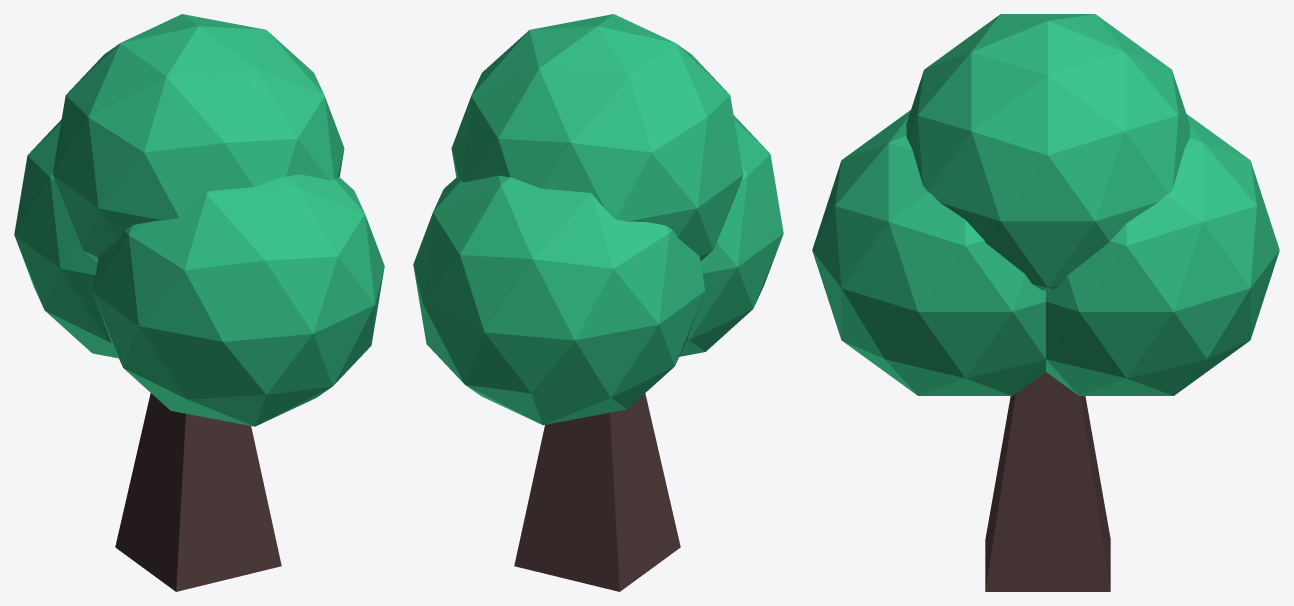
The model's file is ArbolTipo3.3.fbx.
The picture shows the model from 3 angles, left to right: view 1: azimuth 30°, elevation 25°; view 2: azimuth 150°, elevation 25°; view 3: azimuth 270°, elevation 25°; orthographic projection. The views are drawn at different scales.
Parts seen in each view (by area): view 1: Icosphere.001, Icosphere.002, Cube, Icosphere; view 2: Icosphere, Icosphere.002, Cube, Icosphere.001; view 3: Icosphere.002, Icosphere.001, Icosphere, Cube.
Part boxes in pixels (bbox=[...]): Icosphere.001: bbox=[92, 174, 384, 426]; Icosphere.002: bbox=[52, 14, 344, 262]; Cube: bbox=[115, 393, 281, 591]; Icosphere: bbox=[14, 119, 118, 358]; Icosphere: bbox=[413, 175, 705, 425]; Icosphere.002: bbox=[451, 14, 743, 261]; Cube: bbox=[514, 393, 680, 591]; Icosphere.001: bbox=[679, 115, 783, 356]; Icosphere.002: bbox=[906, 14, 1190, 290]; Icosphere.001: bbox=[812, 110, 1045, 395]; Icosphere: bbox=[1046, 114, 1279, 395]; Cube: bbox=[985, 372, 1110, 591].
Size of the model in its own units: 289 by 596 by 463.
